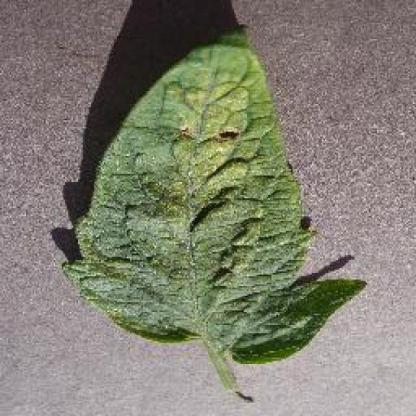Tomato_Spider_Mites: (62, 24, 367, 361)
